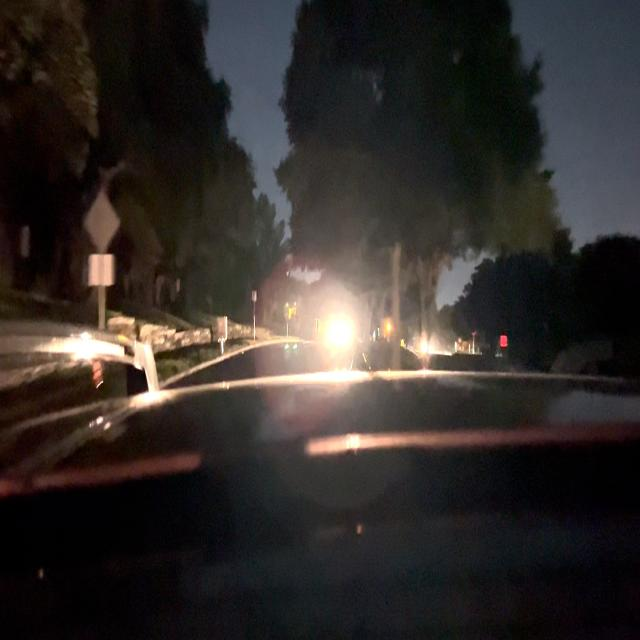back-of-sign: (85, 187, 119, 285)
